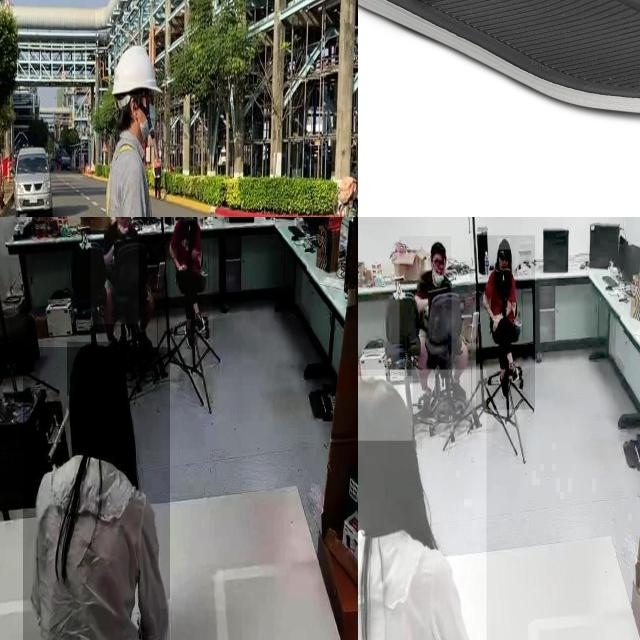Sandals: (358, 0, 640, 118)
face_nomask: (432, 257, 444, 276), (498, 253, 508, 271)
hand_noglove: (491, 314, 501, 332), (176, 262, 187, 272), (491, 312, 501, 322)
head_nohelmet: (358, 375, 412, 440), (67, 342, 127, 397), (430, 241, 446, 254), (497, 238, 511, 250)
person: (23, 347, 170, 640), (358, 369, 487, 640), (476, 235, 536, 410), (400, 236, 452, 378), (170, 217, 213, 348), (90, 217, 139, 325)
shoes: (448, 371, 467, 405), (495, 371, 511, 398), (506, 358, 521, 386)
